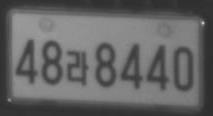0: (173, 45, 194, 90)
4: (119, 43, 144, 90), (146, 44, 171, 91), (14, 38, 37, 84)
8: (40, 40, 63, 84), (94, 42, 116, 87)
라: (66, 50, 89, 86)
